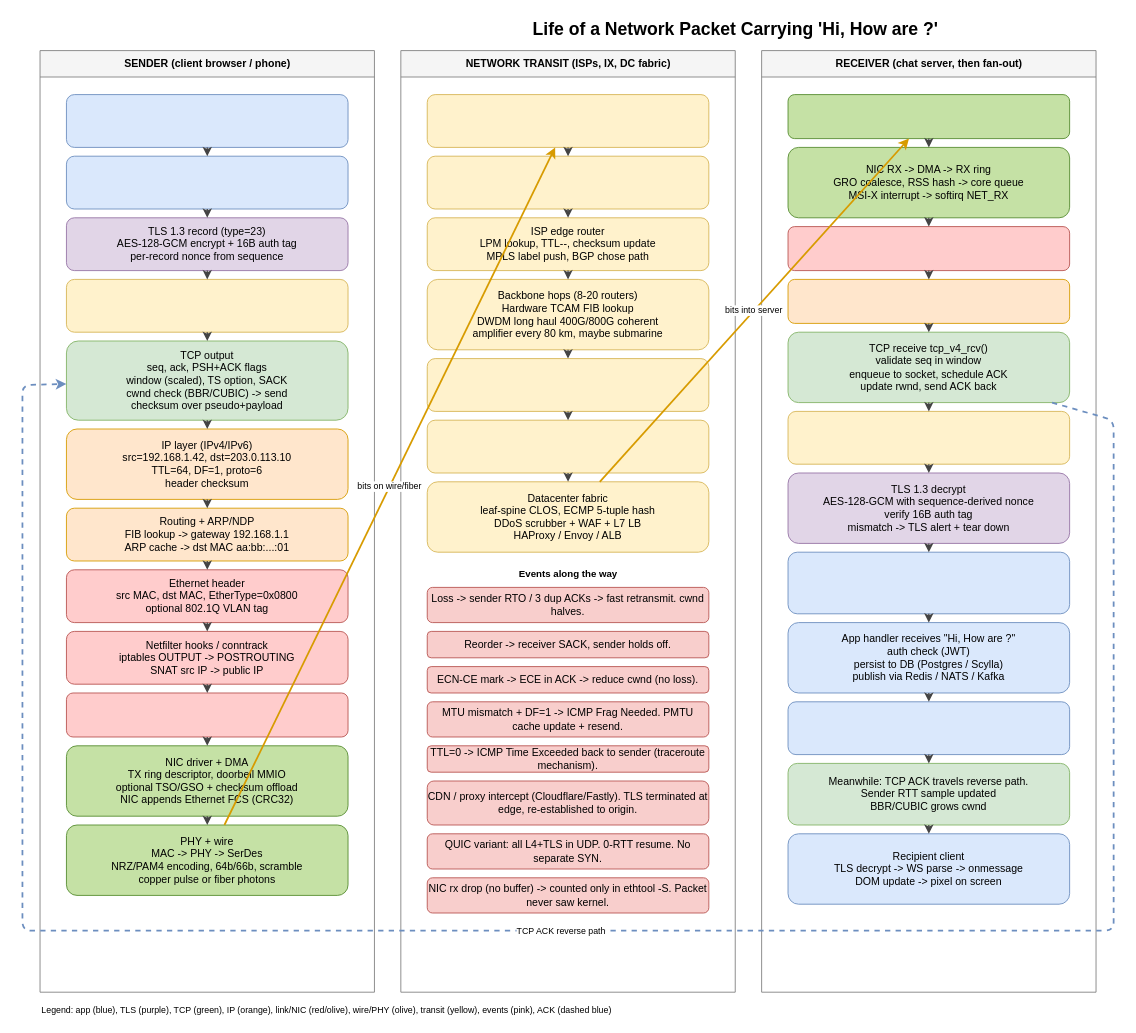
Some shapes in this 1136 by 1033 pixel diagram are drawn without their labels. Each missing label, with the centre of its shape:
Access network DOCSIS 3.1 / GPON / FTTH / 5G GEM frames, ONU demux at OLT: the point at 567,182
App Layer JS: socket.send('Hi, How are ?') 14 UTF-8 bytes: the point at 207,120
App reads socket (epoll/kqueue/io_uring) kernel -> user copy, wakes handler: the point at 928,437
Destination ISP POP anycast steering to nearest POP MPLS pop: the point at 567,446
Fan-out to recipient WS connections each path mirrors this journey back: the point at 928,728
Home switch / router L2 MAC lookup, forward to WAN PPPoE/DHCP-WAN: the point at 567,120
Internet Exchange / peering DE-CIX / AMS-IX / LINX BGP AS-path, local-pref, MED: the point at 567,384
IP layer validate checksum, TTL handoff to proto=6: the point at 928,301
Netfilter PREROUTING / INPUT conntrack reverse lookup -> DNAT: the point at 928,248
Server PHY -> MAC CRC check, link header strip: the point at 928,116
syscall write(fd, buf, 41) user -> kernel mode switch append to sk_write_queue: the point at 207,305
tc qdisc (fq_codel / fq pacing) scheduling, pacing, AQM: the point at 207,714
WebSocket frame FIN=1, opcode=0x1 (text) mask bit=1, 4B mask key, payload=14B: the point at 207,182
WebSocket parser unmask with client XOR key opcode=text -> UTF-8 payload: the point at 928,582
